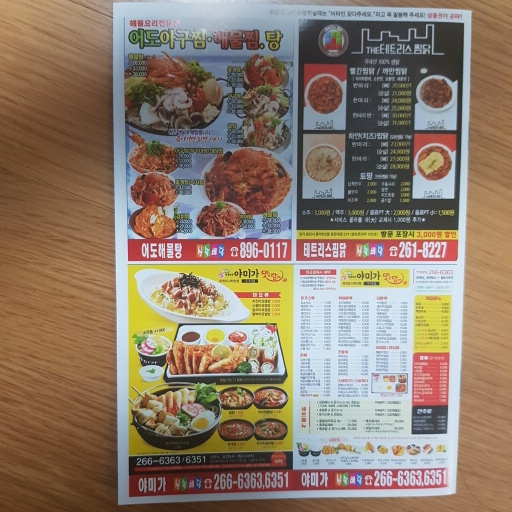Paper_2: (107, 1, 464, 508)
